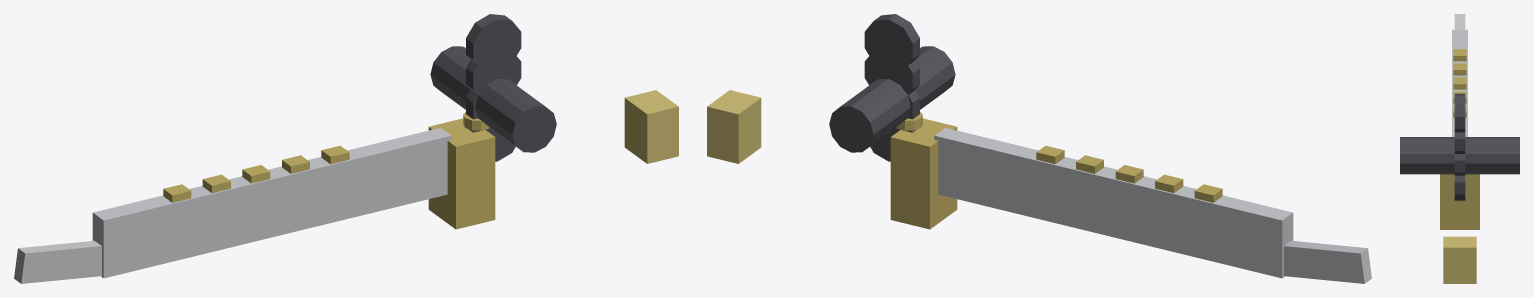
The model's file is gumus_bicak.glb.
3 views of the same model, side by side, from view 1: azimuth 30°, elevation 25°; view 2: azimuth 150°, elevation 25°; view 3: azimuth 270°, elevation 25° (orthographic). The views are drawn at different scales.
Visible parts, largest first — view 1: geometry_0; view 2: geometry_0; view 3: geometry_0.
Part boxes in pixels (x1,y1,x2,y2): geometry_0: [14, 14, 678, 283]; geometry_0: [707, 14, 1371, 283]; geometry_0: [1400, 14, 1519, 283].
Bounding box in the file's own units: 0.411 × 0.115 × 0.09.
